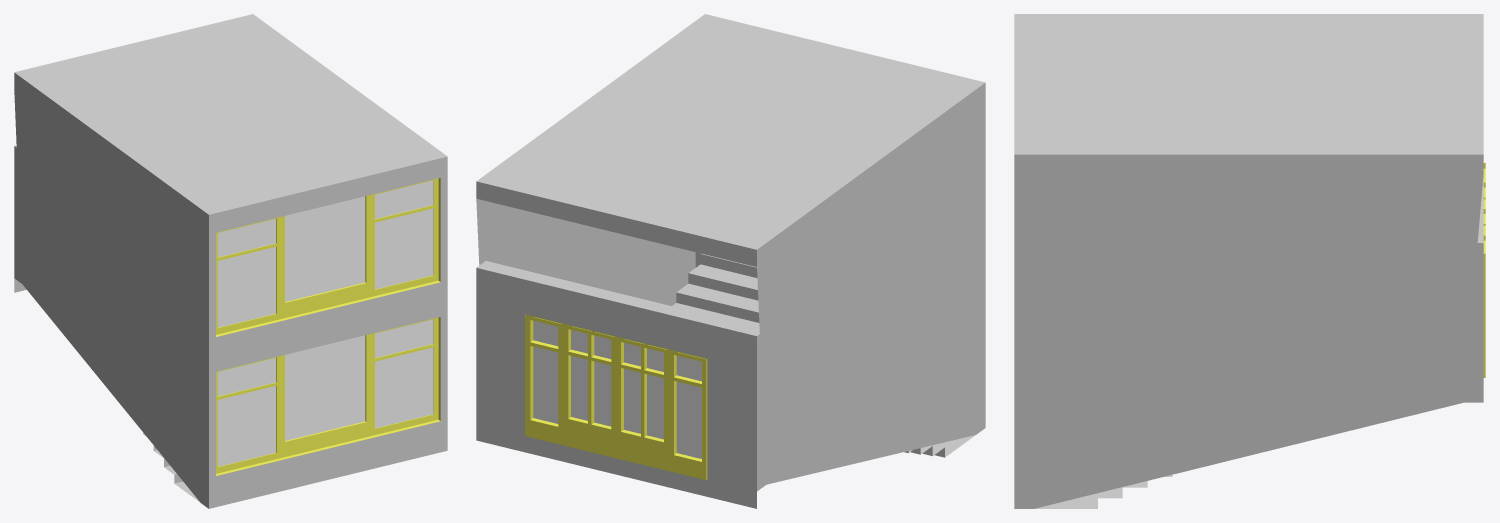
Rendered from Stairs.fbx.
3 views of the same model, side by side, from view 1: azimuth 30°, elevation 25°; view 2: azimuth 150°, elevation 25°; view 3: azimuth 270°, elevation 25° (orthographic). The views are drawn at different scales.
Parts seen in each view (by area): view 1: Stairs_LOD0; view 2: Stairs_LOD0; view 3: Stairs_LOD0.
Part boxes in pixels (<box>): Stairs_LOD0: <box>14,14,447,508</box>; Stairs_LOD0: <box>476,14,985,508</box>; Stairs_LOD0: <box>1014,14,1485,508</box>.
Size of what is drawn, in the model's own units: 850 by 1030 by 1205.
